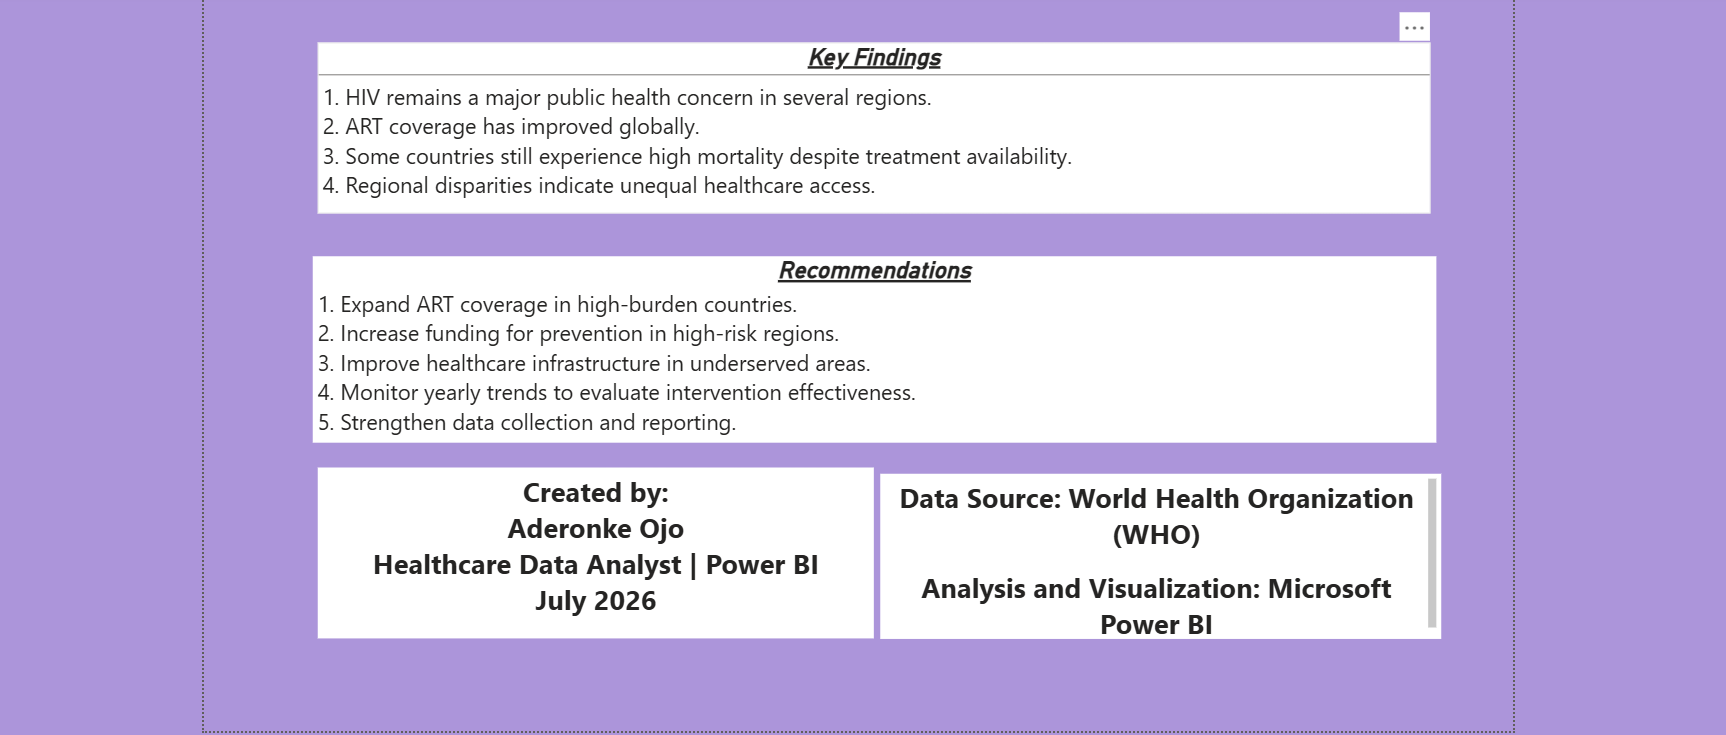

What the dashboard file says about the page in this screenshot:
{"tool":"powerbi","page":{"name":"Recommendations","canvas":[1280,720],"ordinal":4},"visuals":[{"type":"textbox","title":"Key Findings","box":[111.6,46.5,1088.4,167.4],"z":0},{"type":"textbox","title":"Recommendations","box":[107,255.8,1098.8,182.6],"z":1000},{"type":"textbox","box":[111.6,462.8,544.2,167.4],"z":3000},{"type":"textbox","box":[661.6,468.6,548.8,161.6],"z":4000}]}

Visuals, with their boxes in screenshot pixels (x1, y1, x2, y2):
"Key Findings" textbox: (left=319, top=42, right=1418, bottom=211)
"Recommendations" textbox: (left=315, top=254, right=1424, bottom=438)
textbox: (left=319, top=463, right=869, bottom=632)
textbox: (left=875, top=469, right=1429, bottom=632)
